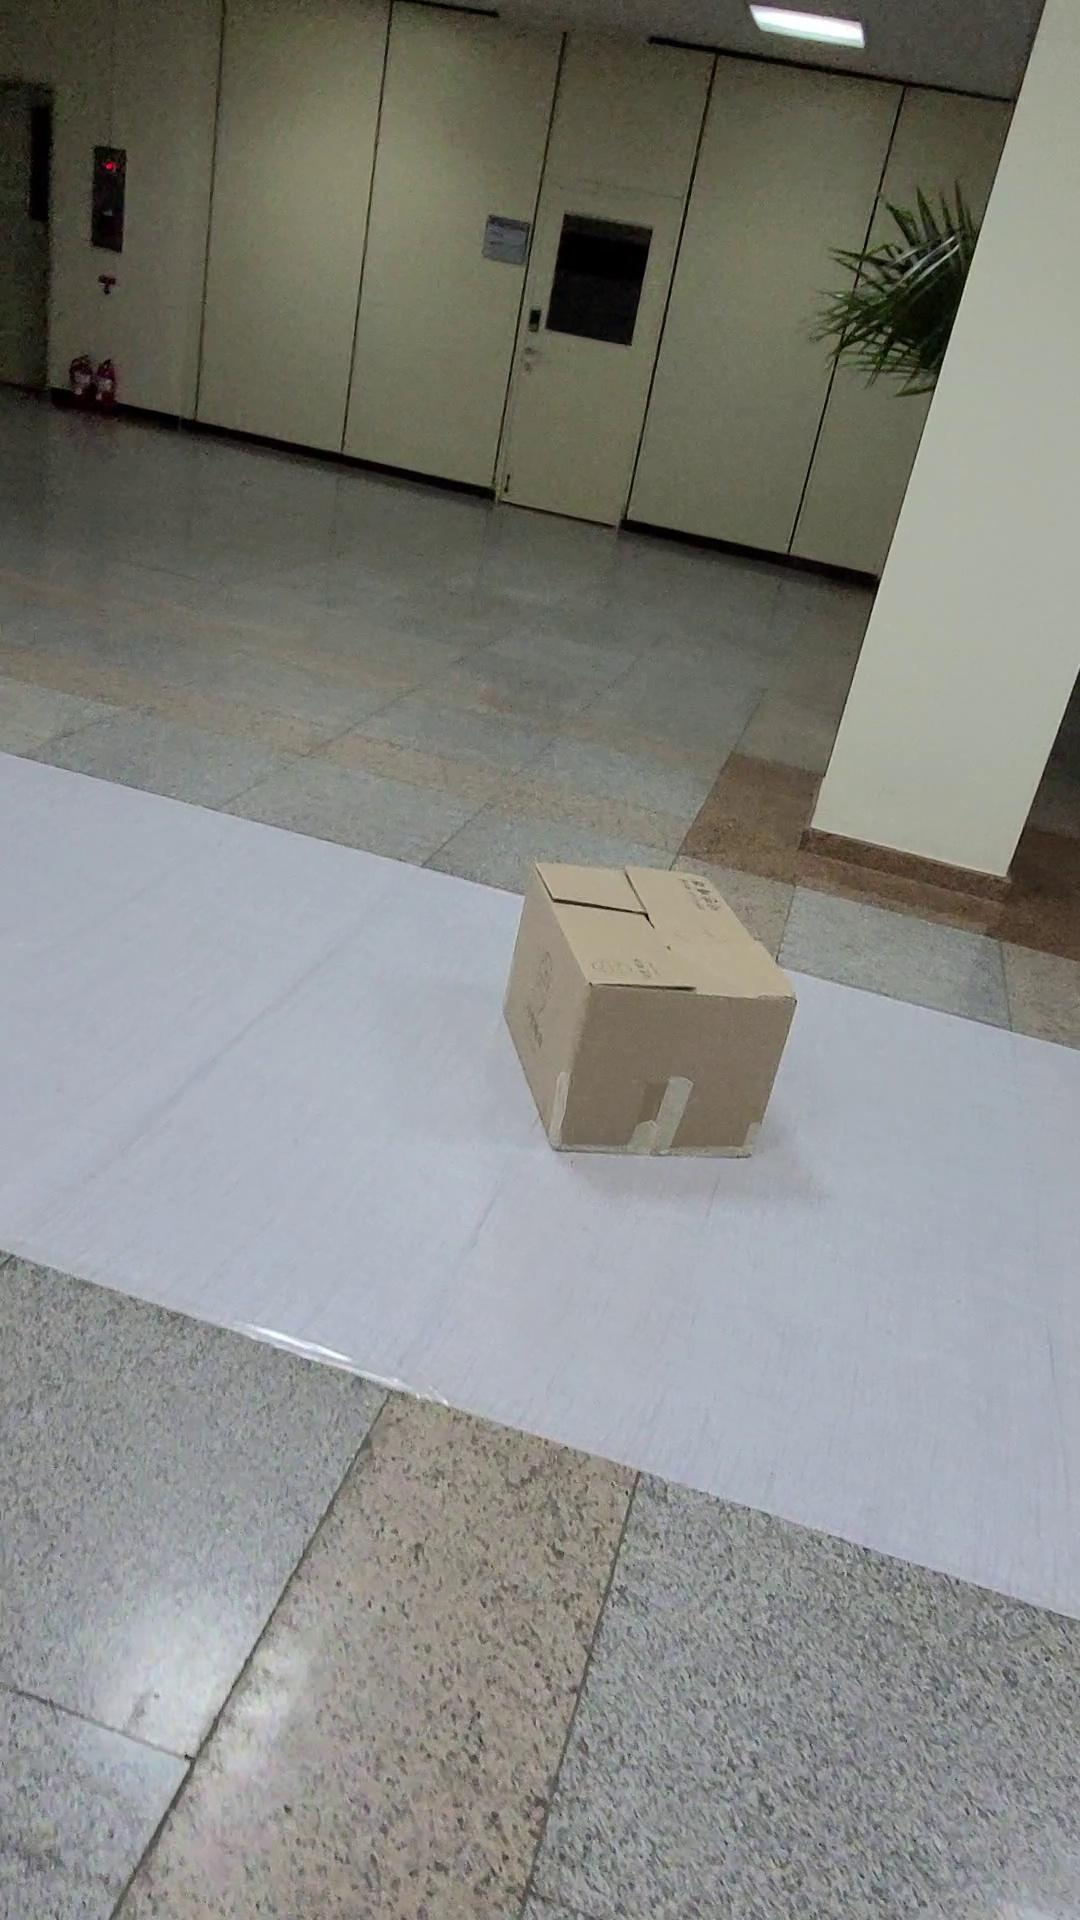Box: (473, 835, 818, 1203)
